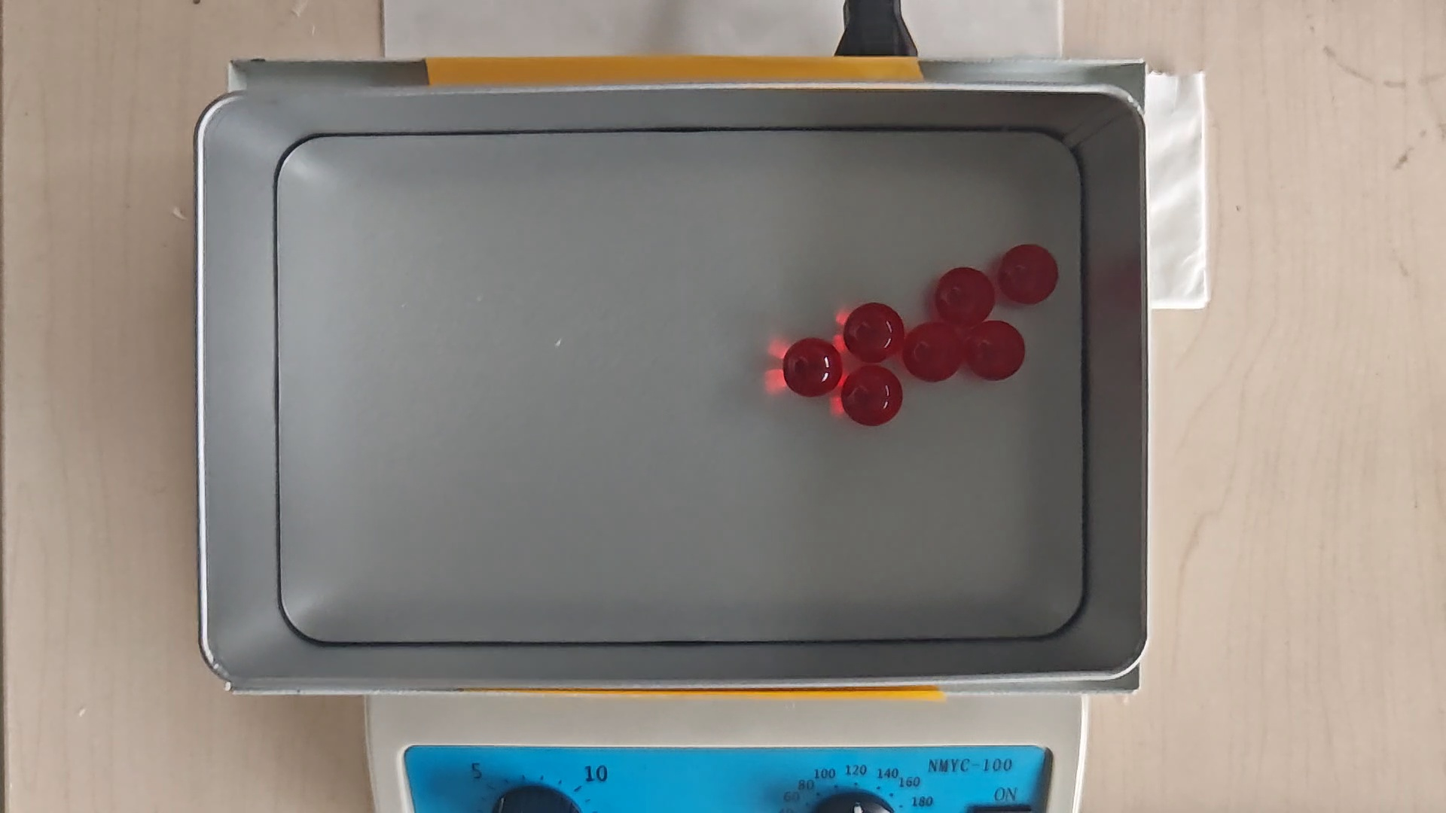ball: (997, 242, 1060, 308), (840, 365, 905, 428), (934, 266, 996, 330), (841, 302, 903, 362), (969, 318, 1027, 382), (903, 323, 964, 382), (784, 337, 841, 397)
container: (274, 128, 1085, 639)
